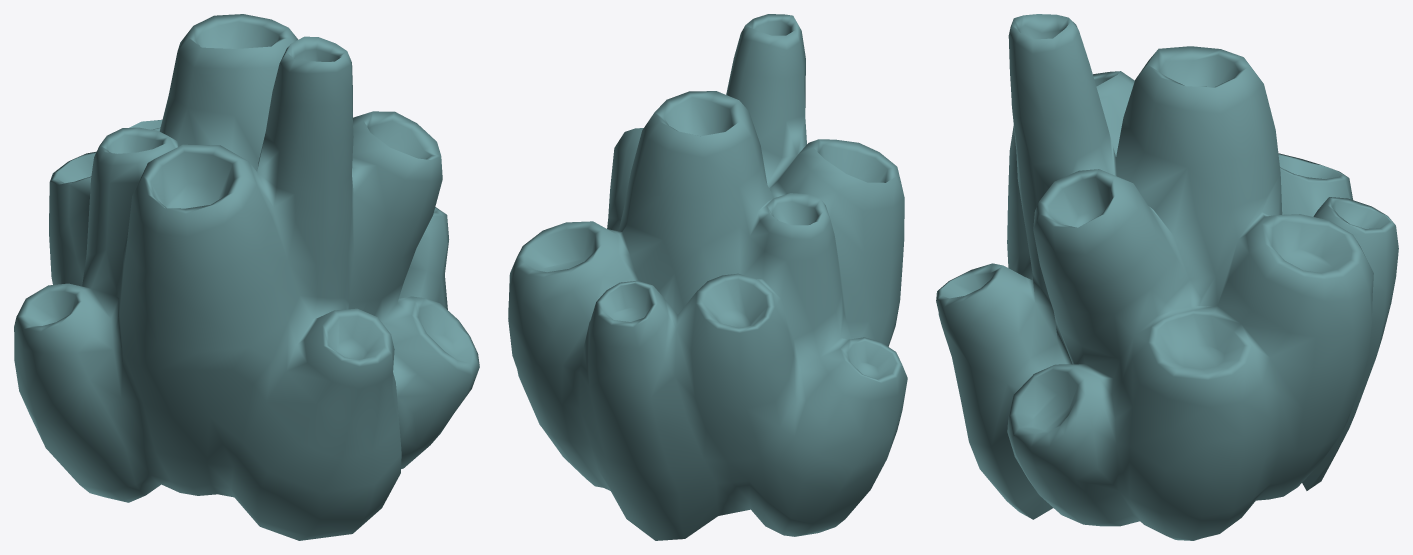
Rendered from coral03.fbx.
The picture shows the model from 3 angles, left to right: view 1: azimuth 30°, elevation 25°; view 2: azimuth 150°, elevation 25°; view 3: azimuth 270°, elevation 25°; orthographic projection. The views are drawn at different scales.
Visible parts, largest first — view 1: coral19; view 2: coral19; view 3: coral19.
Boxes of the visible parts, x1=… form: coral19: x1=14, y1=14, x2=479, y2=540; coral19: x1=508, y1=14, x2=907, y2=540; coral19: x1=936, y1=14, x2=1398, y2=540.
Bounding box in the file's own units: 282 × 311 × 272.
